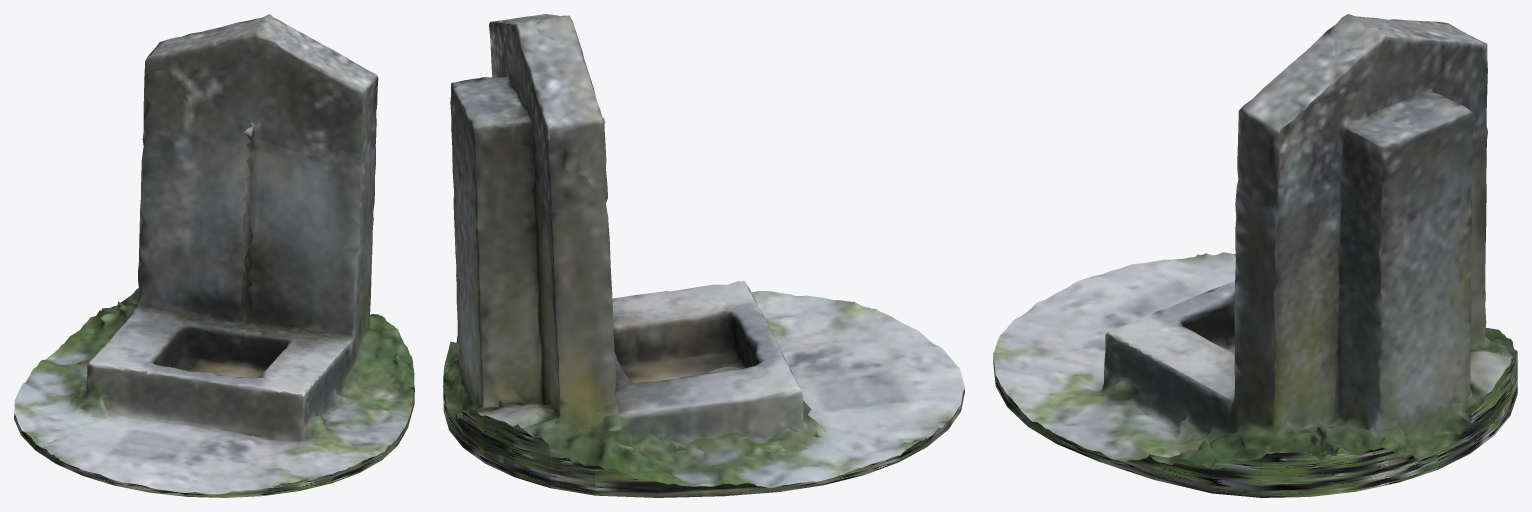
Rendered from fuente.glb.
The picture shows the model from 3 angles, left to right: view 1: azimuth 30°, elevation 25°; view 2: azimuth 150°, elevation 25°; view 3: azimuth 270°, elevation 25°; orthographic projection. The views are drawn at different scales.
Visible parts, largest first — view 1: FUENTE.CAN_2; view 2: FUENTE.CAN_2; view 3: FUENTE.CAN_2.
Boxes of the visible parts, x1=… form: FUENTE.CAN_2: x1=14, y1=14, x2=414, y2=497; FUENTE.CAN_2: x1=443, y1=14, x2=964, y2=497; FUENTE.CAN_2: x1=993, y1=14, x2=1517, y2=497.
Size of the model in its own units: 3.12 by 2.73 by 3.09.
Materials: 2 (1 with a texture image).
